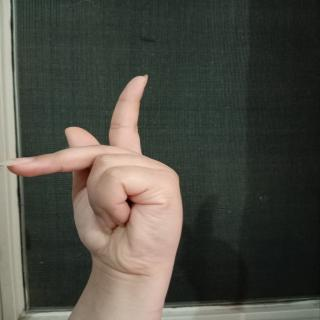DHAA: (0, 70, 195, 296)
